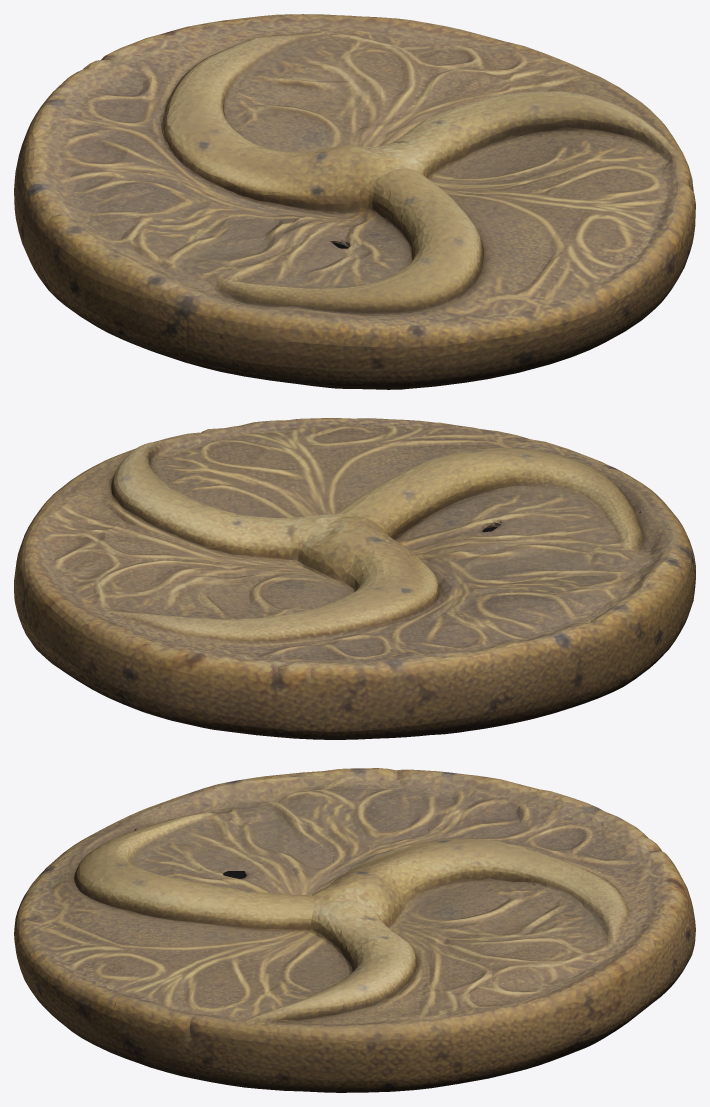
3 views of the same model, one above another, from view 1: azimuth 30°, elevation 25°; view 2: azimuth 150°, elevation 25°; view 3: azimuth 270°, elevation 25° (orthographic). The views are drawn at different scales.
Parts seen in each view (by area): view 1: world; view 2: world; view 3: world.
Part boxes in pixels (x1,y1,x2,y2): world: (14, 14, 695, 389); world: (14, 418, 695, 739); world: (14, 768, 695, 1092).
Bounding box in the file's own units: 0.0372 × 0.00615 × 0.04.
1 material, 1 textured.
